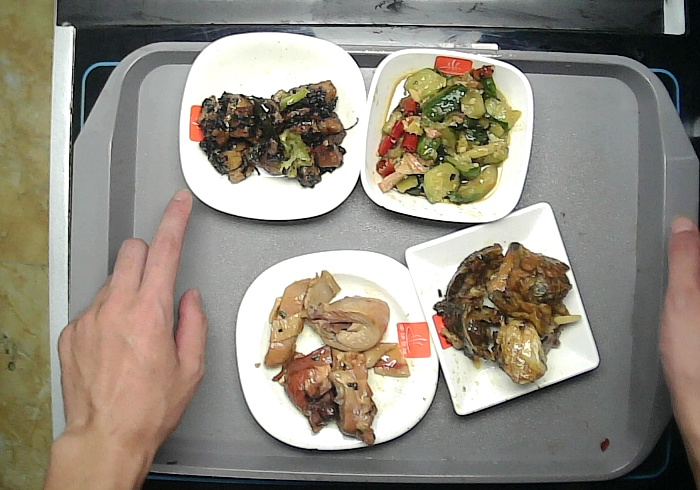SHKJ-Bai_Se_Cai_Die: (175, 30, 369, 224)
SHKJ-Bai_Se_Si_Fang_Cai_Die: (234, 247, 444, 453)
SHKJ-Bai_Se_Xiao_Fang_Die: (357, 45, 535, 225)
SHKJ-Si_Fang_Min: (402, 200, 601, 420)
